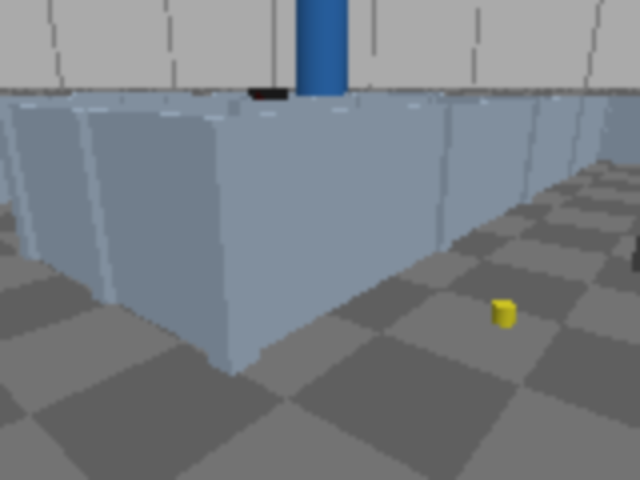obstacle: (631, 209, 638, 289)
puck: (491, 300, 516, 327)
